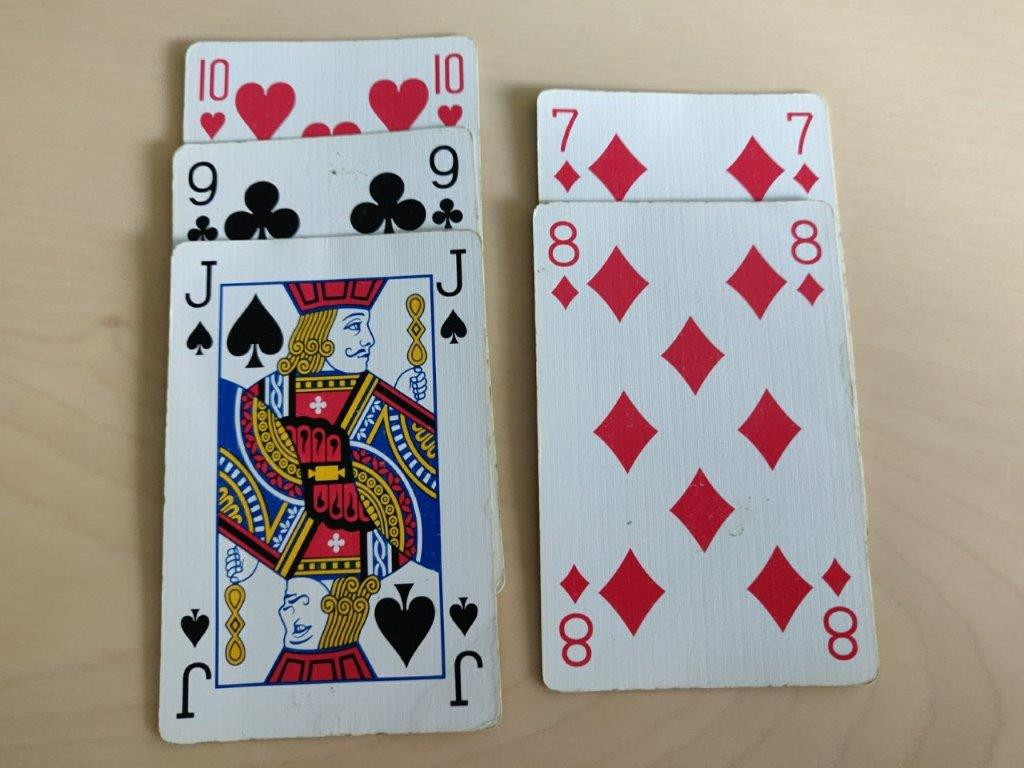10S: (194, 53, 233, 142)
7D: (542, 100, 584, 196), (781, 106, 823, 202)
8D: (541, 215, 584, 315), (786, 213, 829, 313)
9C: (177, 155, 227, 244), (424, 140, 468, 233)
JS: (179, 253, 222, 358), (430, 242, 473, 347)
